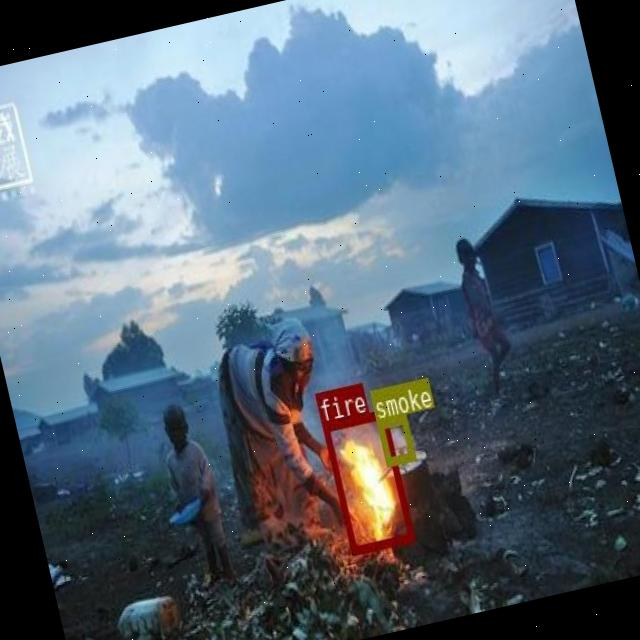fire: (320, 409, 413, 554)
smoke: (376, 412, 414, 463)
